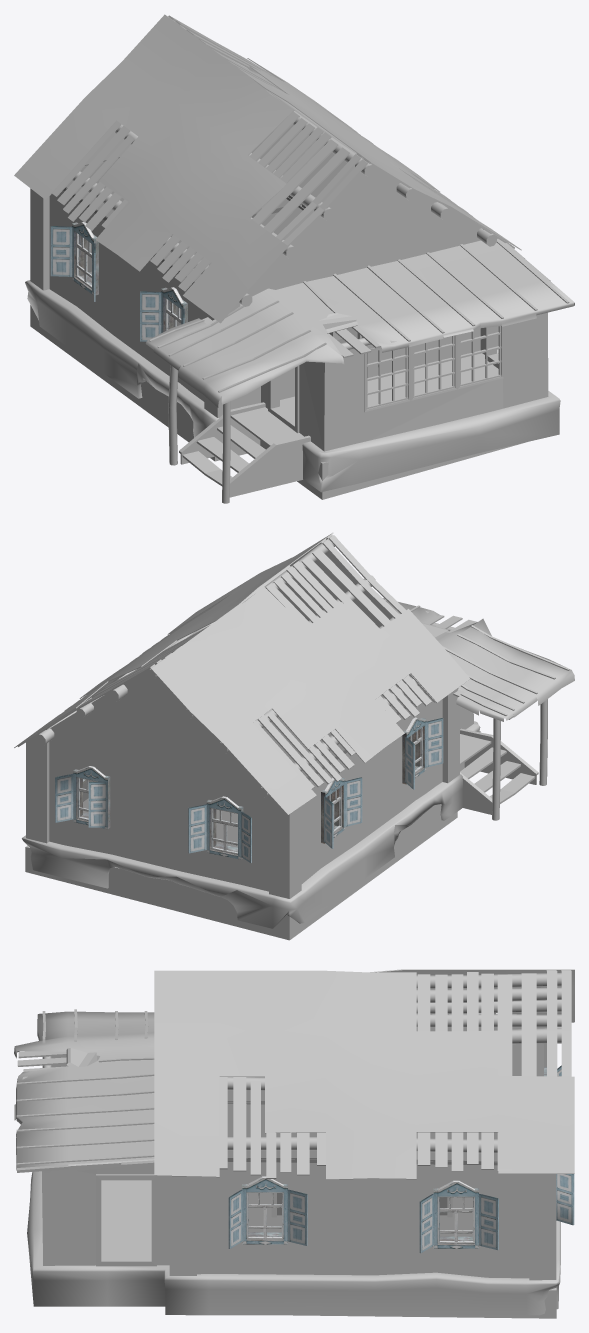
The model's file is OldVilageHouse03_model.FBX.
3 renders of one model, top to bottom at view 1: azimuth 30°, elevation 25°; view 2: azimuth 150°, elevation 25°; view 3: azimuth 270°, elevation 25°, orthographic. The views are drawn at different scales.
Parts seen in each view (by area): view 1: Roof, Plane01, LOD_0_WerandaWood, Object01, Box06, Box03, Cylinder01, WindowsVeranda, Object05, Box01, LOD_0_HouseWindows02, LOD_0_HouseWindows06 (+3 smaller); view 2: Roof, Object01, Box06, Box03, Plane01, Box01, Box05, LOD_0_WerandaWood, Cylinder01, LOD_0_HouseWindows07, LOD_0_HouseWindows08, LOD_0_HouseWindows06 (+5 smaller); view 3: Roof, Object01, Box06, Plane01, Box03, LOD_0_WerandaWood, Box05, Cylinder01, LOD_0_HouseWindows09, LOD_0_HouseWindows05, Object05, PolInterior01 (+4 smaller).
Part boxes in pixels (left/top/right/bottom): Roof: left=14, top=14, right=521, bottom=323; Plane01: left=145, top=239, right=574, bottom=407; LOD_0_WerandaWood: left=179, top=312, right=548, bottom=497; Object01: left=49, top=28, right=480, bottom=407; Box06: left=25, top=280, right=560, bottom=492; Box03: left=52, top=15, right=514, bottom=368; Cylinder01: left=72, top=18, right=496, bottom=503; WindowsVeranda: left=364, top=326, right=504, bottom=412; Object05: left=149, top=239, right=569, bottom=392; Box01: left=30, top=305, right=525, bottom=499; LOD_0_HouseWindows02: left=50, top=222, right=98, bottom=301; LOD_0_HouseWindows06: left=140, top=287, right=187, bottom=341; Roof: left=14, top=532, right=470, bottom=814; Object01: left=49, top=546, right=442, bottom=891; Box06: left=22, top=721, right=480, bottom=928; Box03: left=17, top=534, right=537, bottom=788; Plane01: left=383, top=598, right=574, bottom=721; Box01: left=25, top=731, right=480, bottom=940; Box05: left=26, top=724, right=301, bottom=898; LOD_0_WerandaWood: left=460, top=706, right=538, bottom=814; Cylinder01: left=34, top=536, right=547, bottom=820; LOD_0_HouseWindows07: left=188, top=796, right=251, bottom=862; LOD_0_HouseWindows08: left=55, top=766, right=110, bottom=829; LOD_0_HouseWindows06: left=402, top=717, right=443, bottom=789; Roof: left=154, top=969, right=574, bottom=1179; Object01: left=197, top=1101, right=529, bottom=1278; Box06: left=27, top=1171, right=560, bottom=1315; Plane01: left=14, top=1011, right=154, bottom=1172; Box03: left=17, top=970, right=571, bottom=1178; LOD_0_WerandaWood: left=42, top=1055, right=169, bottom=1265; Box05: left=169, top=1013, right=556, bottom=1280; Cylinder01: left=42, top=972, right=570, bottom=1172; LOD_0_HouseWindows09: left=419, top=1180, right=498, bottom=1253; LOD_0_HouseWindows05: left=228, top=1176, right=307, bottom=1248; Object05: left=16, top=1009, right=154, bottom=1165; PolInterior01: left=227, top=1027, right=543, bottom=1162.
Bounding box in the file's own units: 969 × 681 × 1237.
